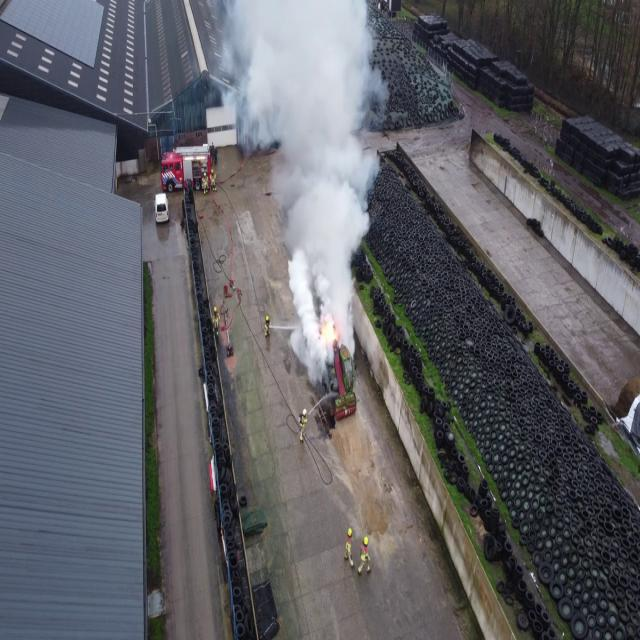Fire: (318, 313, 338, 352)
Smoke: (237, 0, 386, 357)
